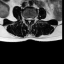CCS_normal: (28, 15, 30, 25)
LFS_normal: (32, 15, 34, 22)
LLS_normal: (30, 15, 32, 22)
RFS_stenosis: (24, 15, 26, 22)
RLS_normal: (26, 15, 28, 22)
